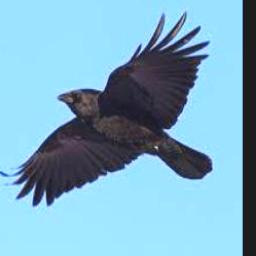Crow: (0, 11, 214, 206)
